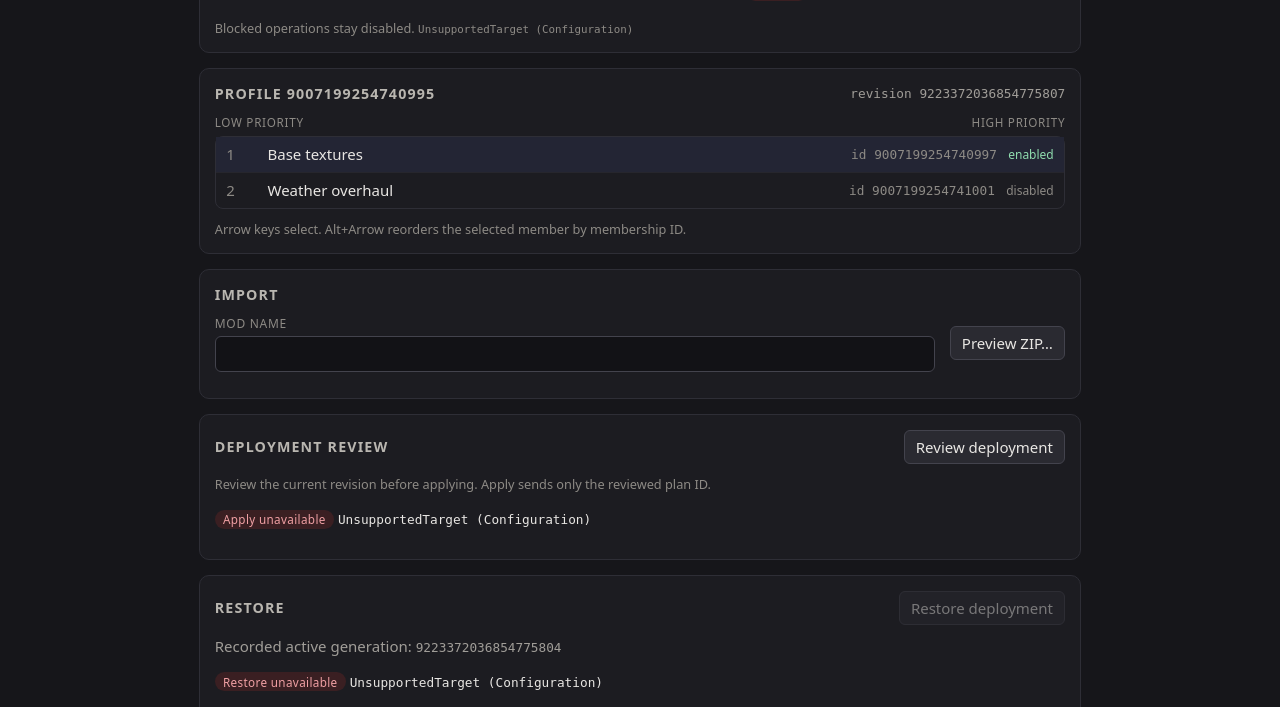
workspace shell › previews an archive at the current revision and enables Apply
(page scrolled)
Expected: the text "revision 9223372036854775807" is shown, left=850, top=86, right=1065, bottom=100
In the field labelled "Mod name": (575,354) left=215, top=336, right=935, bottom=372, type "Textures"
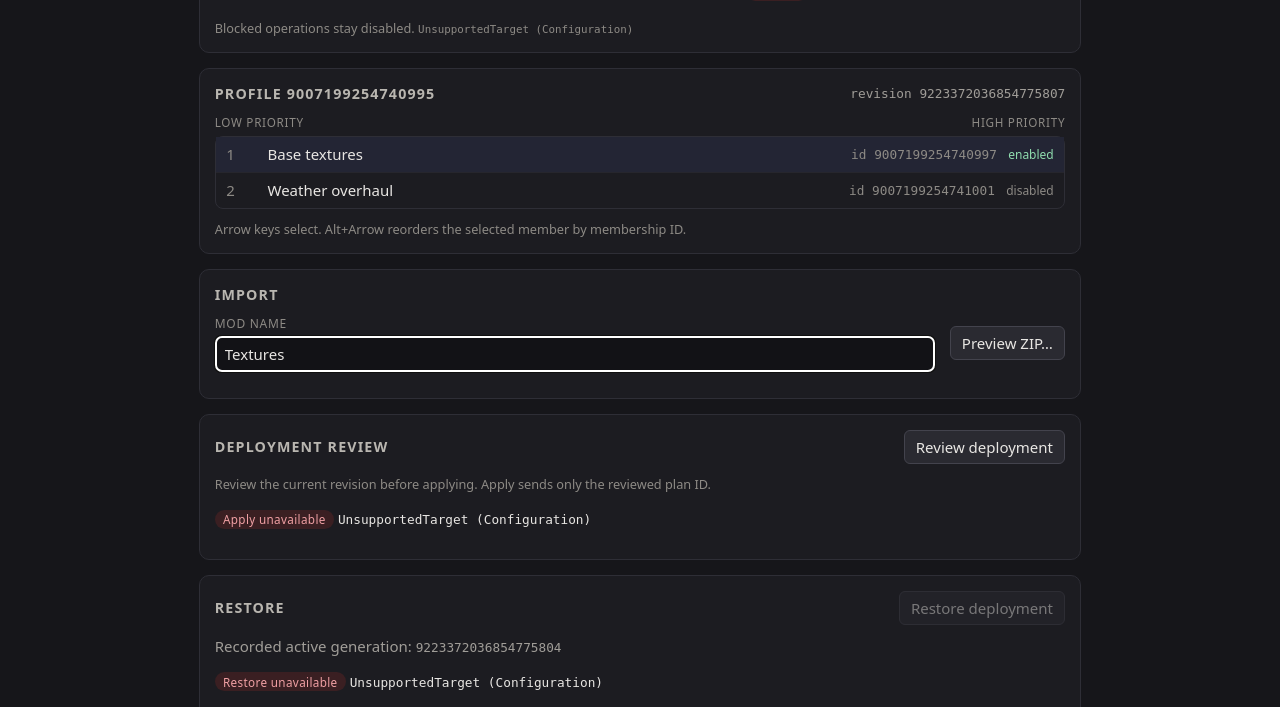
Click the button "Preview ZIP…": (1007,343) left=950, top=326, right=1065, bottom=360
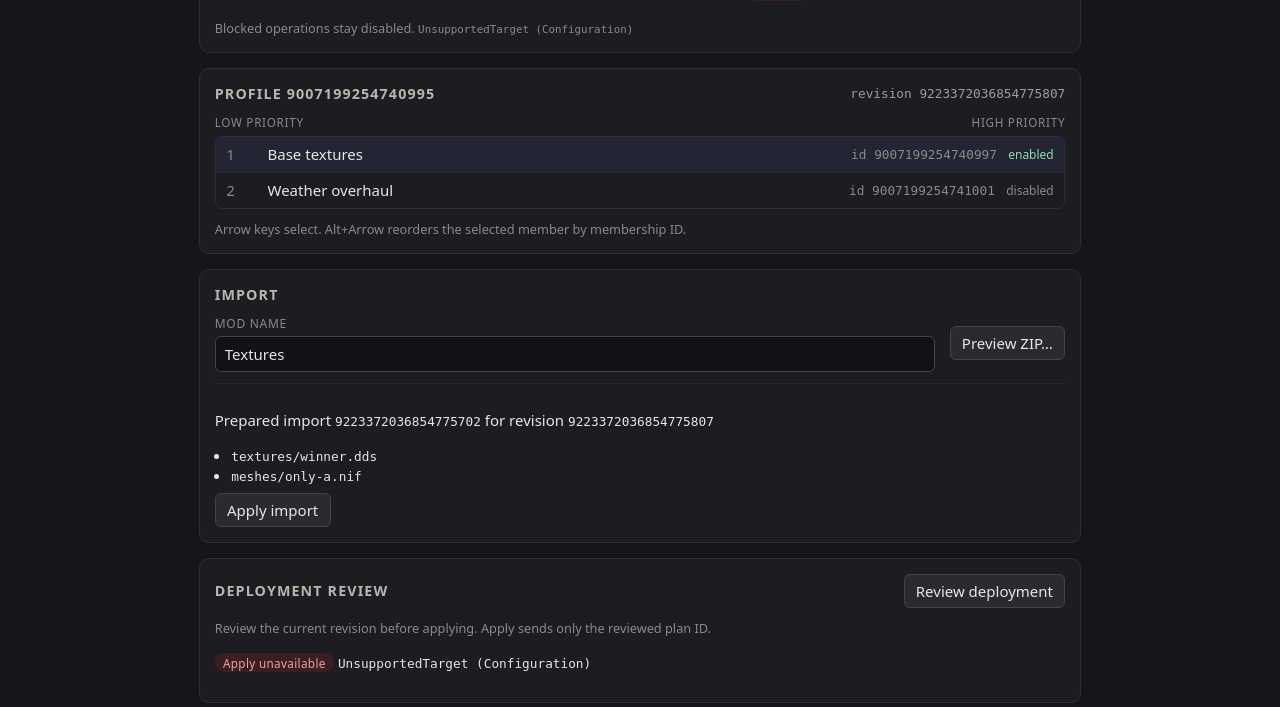
Result: the text "9223372036854775702" is shown at left=335, top=414, right=481, bottom=429
Result: the button "Apply import" is enabled at left=215, top=492, right=331, bottom=526
